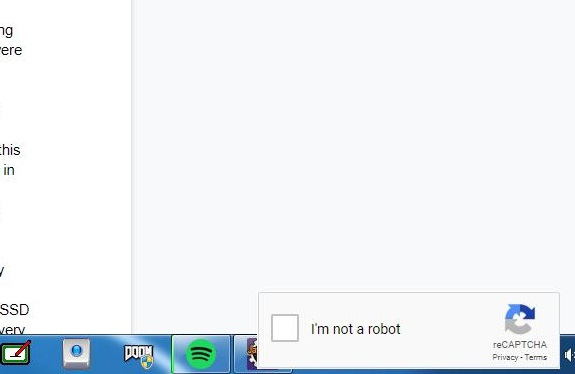captcha: (271, 314, 404, 342)
